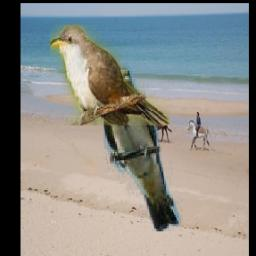Cuckoo: (49, 25, 169, 125)
Swallow: (103, 63, 182, 231)
